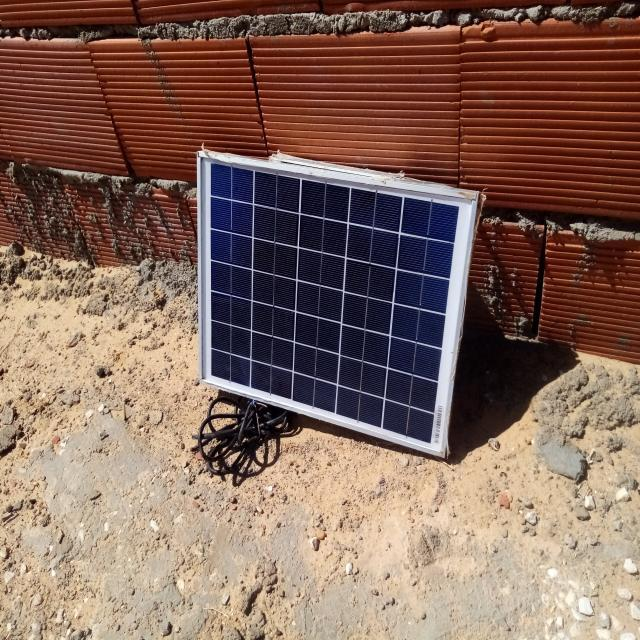no faulty: (198, 154, 476, 456)
